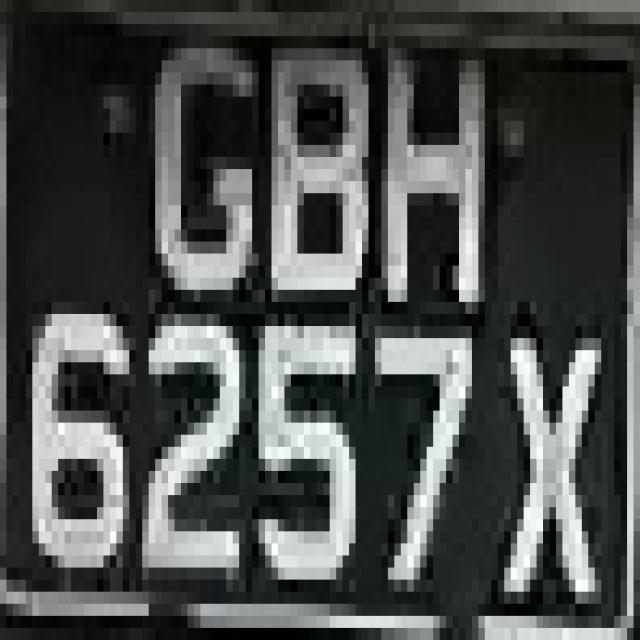2: (129, 290, 252, 592)
5: (246, 302, 362, 567)
6: (26, 266, 129, 604)
7: (349, 314, 472, 616)
B: (252, 12, 375, 326)
G: (155, 0, 265, 326)
H: (368, 24, 492, 350)
X: (498, 302, 608, 616)
